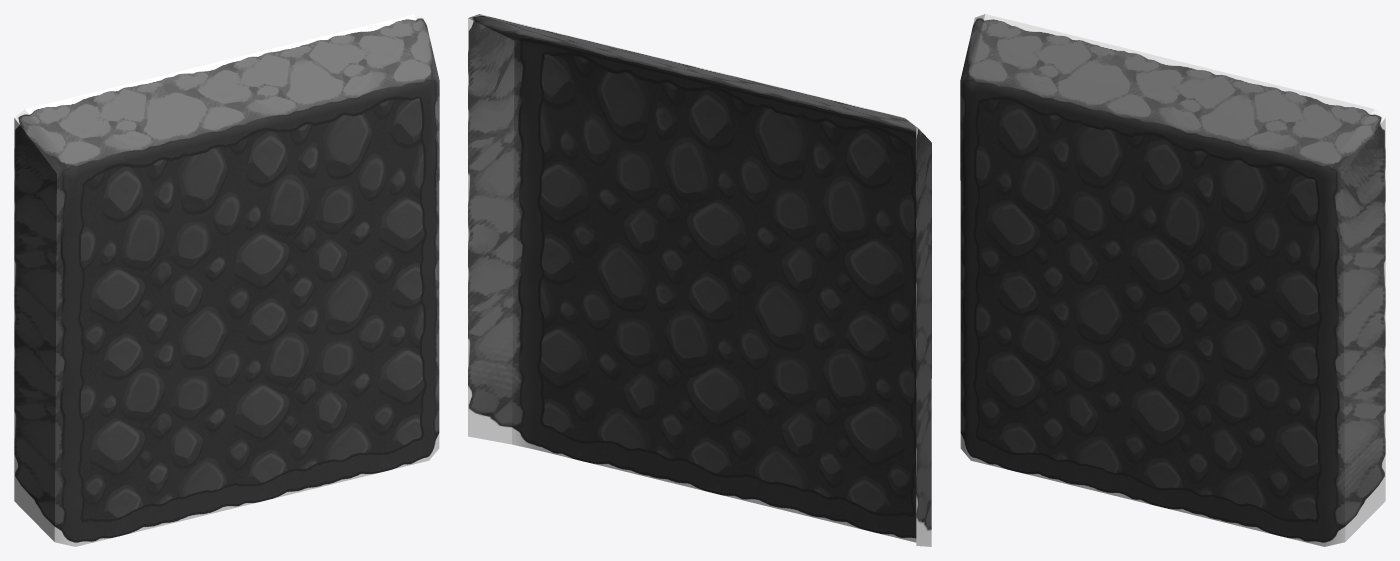
File: tileSegment11.fbx
3 views of the same model, side by side, from view 1: azimuth 30°, elevation 25°; view 2: azimuth 150°, elevation 25°; view 3: azimuth 330°, elevation 25° (orthographic). The views are drawn at different scales.
Visible parts, largest first — view 1: polySurface1, polySurface2; view 2: polySurface1, polySurface2; view 3: polySurface1, polySurface2.
Boxes of the visible parts, <box> form: polySurface1: <box>14,14,439,546</box>; polySurface2: <box>180,205,324,391</box>; polySurface1: <box>468,14,931,546</box>; polySurface2: <box>648,171,806,374</box>; polySurface1: <box>960,14,1385,546</box>; polySurface2: <box>1075,205,1219,391</box>.
Size of the model in its own units: 2.84 by 2.77 by 0.3893.
1 material, 1 textured.
